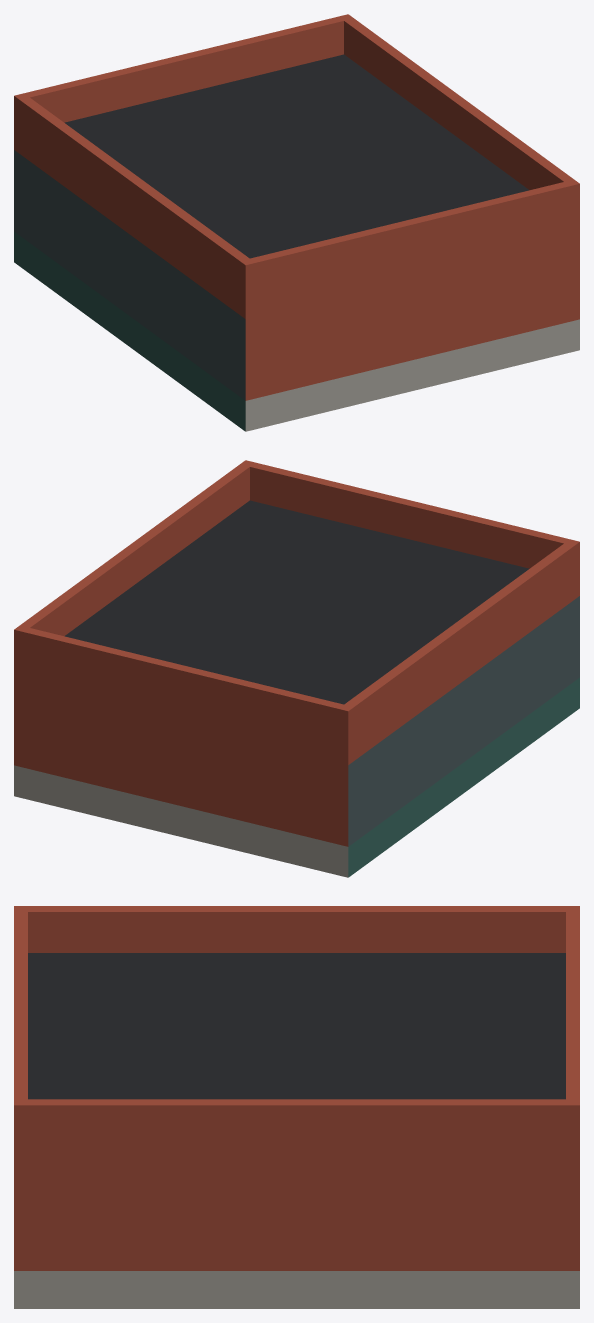
The model's file is far.fbx.
3 views of the same model, one above another, from view 1: azimuth 30°, elevation 25°; view 2: azimuth 150°, elevation 25°; view 3: azimuth 270°, elevation 25° (orthographic). The views are drawn at different scales.
Parts seen in each view (by area): view 1: a2003/700/far; view 2: a2003/700/far; view 3: a2003/700/far.
Part boxes in pixels (x1=…): a2003/700/far: x1=14, y1=14, x2=579, y2=431; a2003/700/far: x1=14, y1=460, x2=579, y2=877; a2003/700/far: x1=14, y1=906, x2=579, y2=1308.
Size of the model in its own units: 10 by 4.76 by 12.
